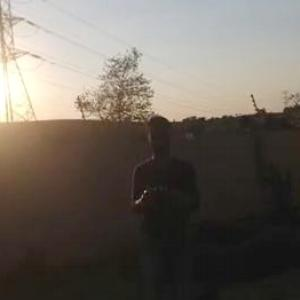follow: (127, 110, 207, 299)
